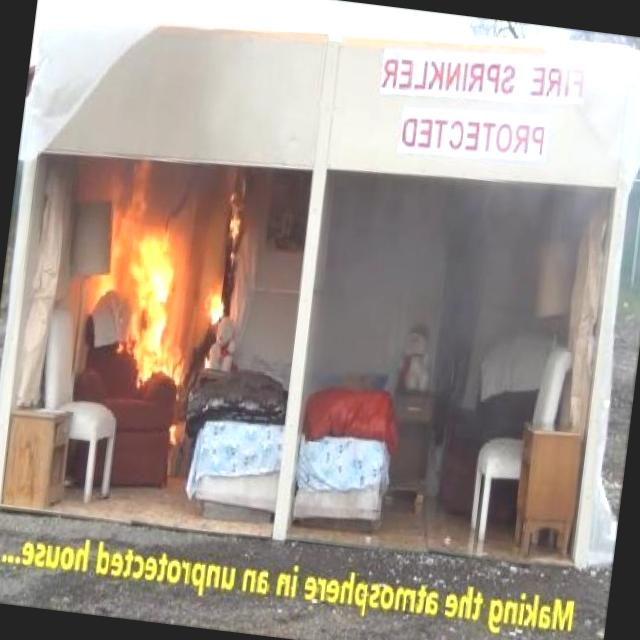fire: (90, 153, 253, 390)
